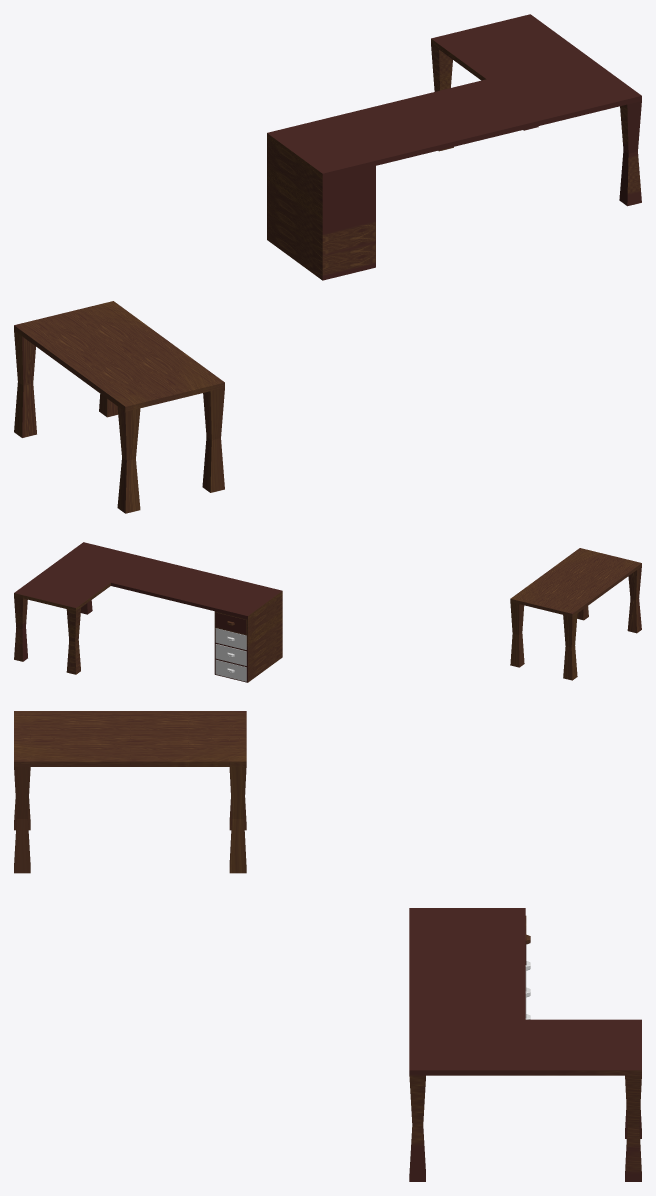
Rendered from Masalar.fbx.
The picture shows the model from 3 angles, top to bottom: view 1: azimuth 30°, elevation 25°; view 2: azimuth 150°, elevation 25°; view 3: azimuth 270°, elevation 25°; orthographic projection. The views are drawn at different scales.
Visible parts, largest first — view 1: Lmasa, Masa; view 2: Lmasa, Masa, cekmece3, cekemce1, cekmece2, cekmece4; view 3: Lmasa, Masa.
Part boxes in pixels (x1,y1,x2,y2): Lmasa: [267, 14, 641, 280]; Masa: [14, 301, 224, 513]; Lmasa: [14, 542, 282, 682]; Masa: [510, 548, 641, 680]; cekmece3: [215, 644, 246, 665]; cekemce1: [215, 612, 246, 634]; cekmece2: [215, 628, 246, 649]; cekmece4: [215, 660, 246, 681]; Lmasa: [409, 908, 641, 1181]; Masa: [14, 711, 246, 873].
Size of the model in its own units: 4824 by 698 by 3562.
Materials: 3 (3 with a texture image).
